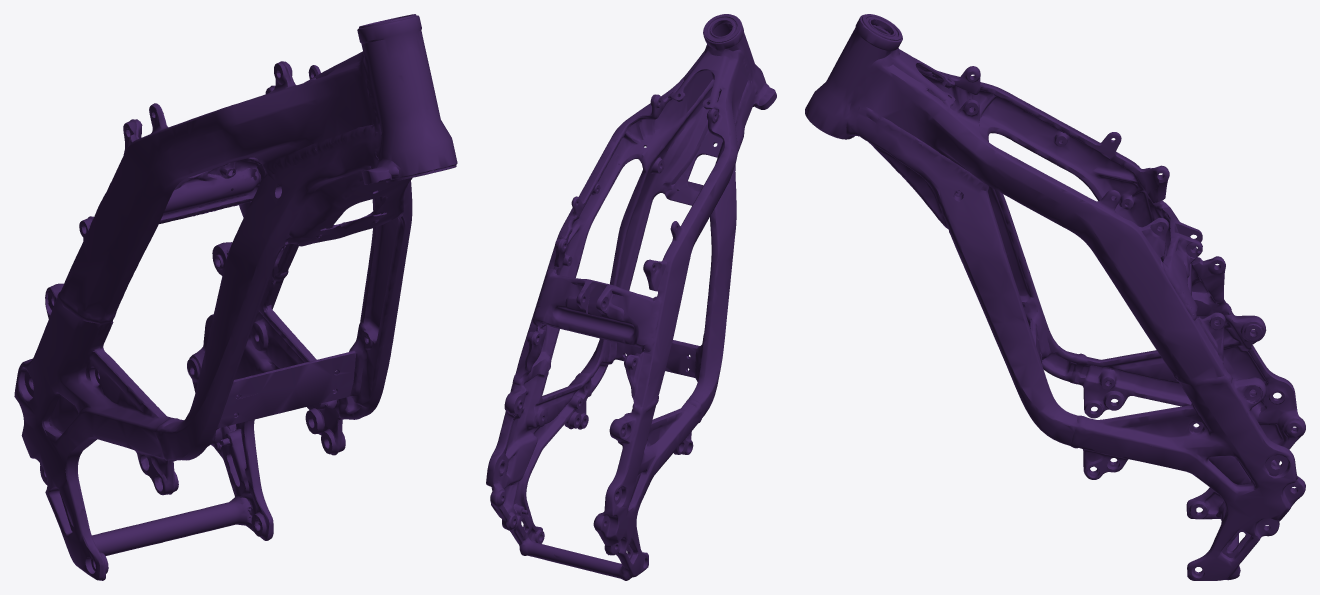
File: Main Frame.glb
3 renders of one model, left to right at view 1: azimuth 30°, elevation 25°; view 2: azimuth 150°, elevation 25°; view 3: azimuth 270°, elevation 25°, orthographic. The views are drawn at different scales.
Visible parts, largest first — view 1: 03; view 2: 03; view 3: 03.
Boxes of the visible parts, x1,y1,x2,y2 form: 03: [14, 14, 457, 580]; 03: [486, 14, 776, 580]; 03: [805, 14, 1305, 580].
Bounding box in the file's own units: 203 × 655 × 560.
